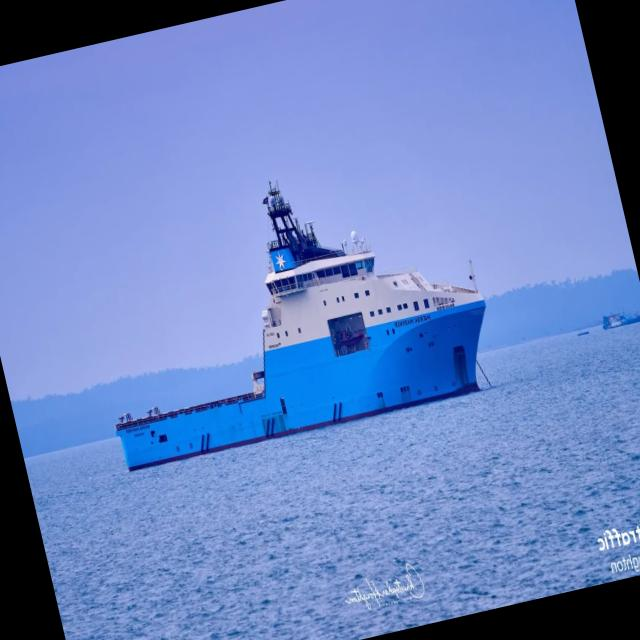Offshore: (115, 182, 485, 470)
